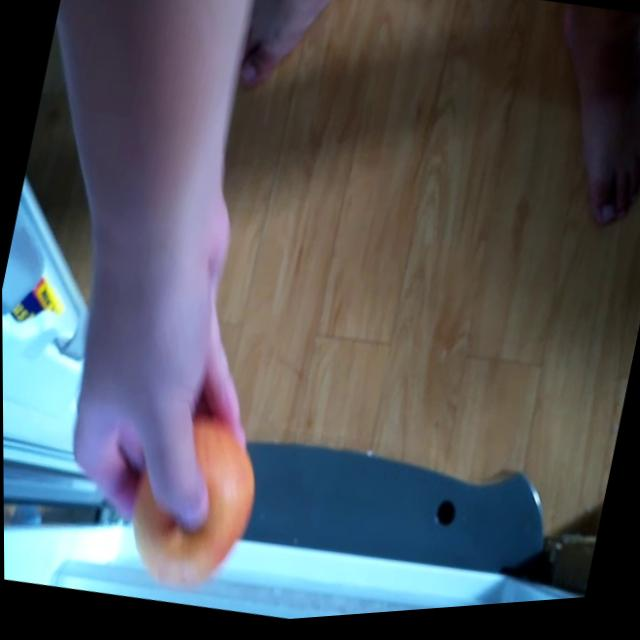apple: (127, 421, 263, 600)
